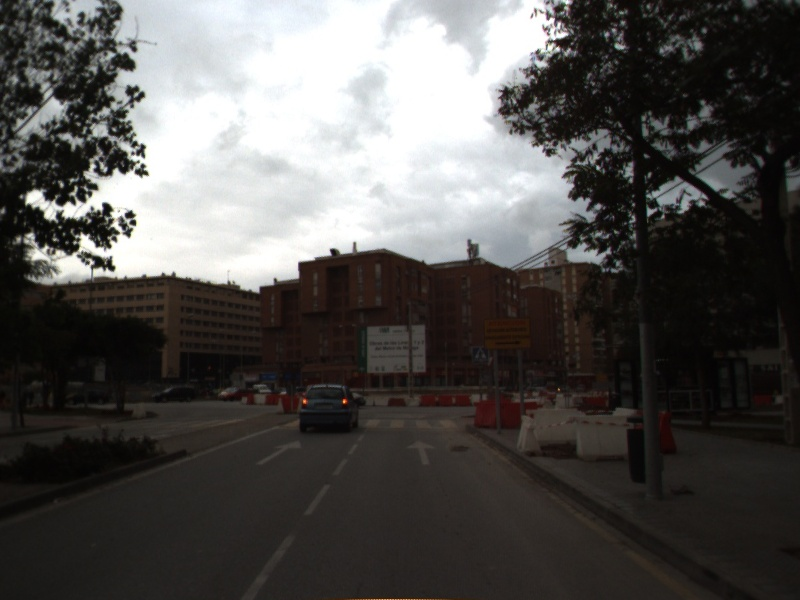STRAIGHT: (253, 438, 303, 467), (405, 438, 438, 467)
